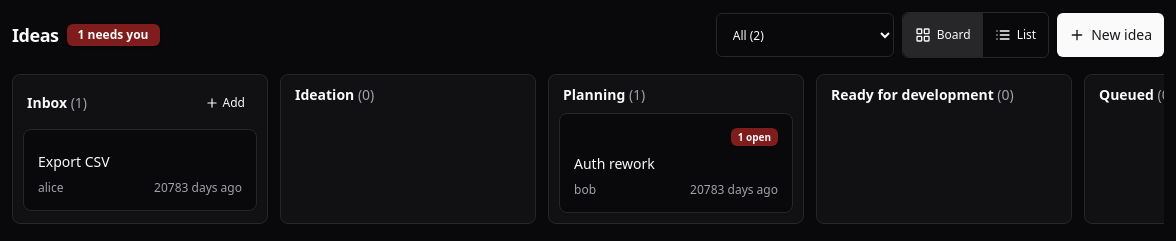
it: IdeasBoard Board | List toggle › keeps the state filter in both views
Later steps or results of the test are not shown.
Select "Planning" in the dropdown named "Filter ideas" at (805, 35), box [716,13,894,57]
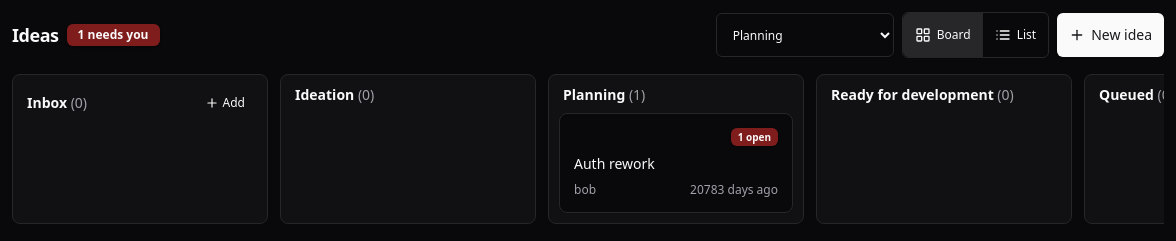
Check: the text "Auth rework" is shown, box [574,154,655,173]
Check: the button "Export CSV" is gone
